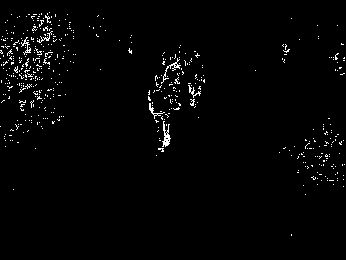person: (146, 73, 175, 154)
